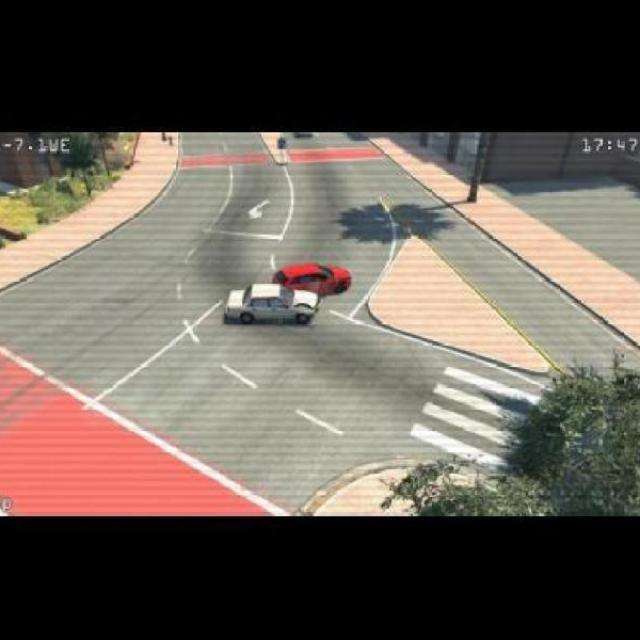accident: (245, 265, 315, 307)
